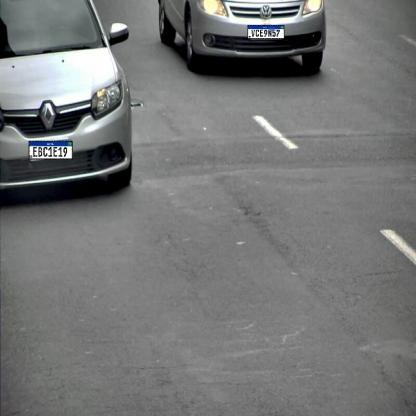PlacaM: (29, 141, 72, 159), (247, 25, 284, 39)
